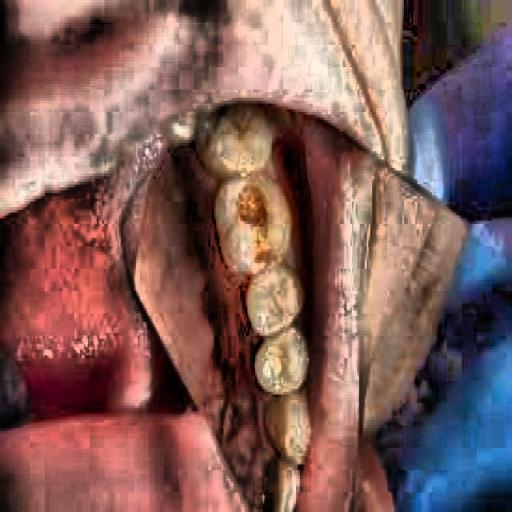Caries: (204, 101, 308, 352)
